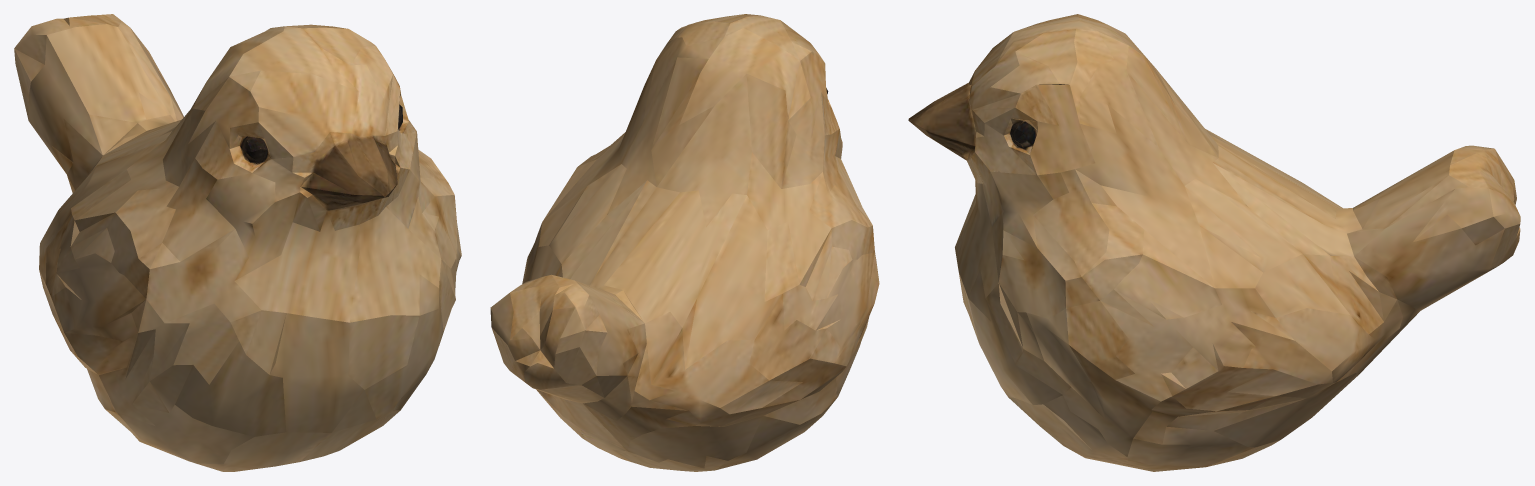
The model's file is namu_sae.glb.
3 renders of one model, left to right at view 1: azimuth 30°, elevation 25°; view 2: azimuth 150°, elevation 25°; view 3: azimuth 270°, elevation 25°, orthographic. The views are drawn at different scales.
Bounding box in the file's own units: 1.16 × 1.44 × 1.9.
1 material, 1 textured.
